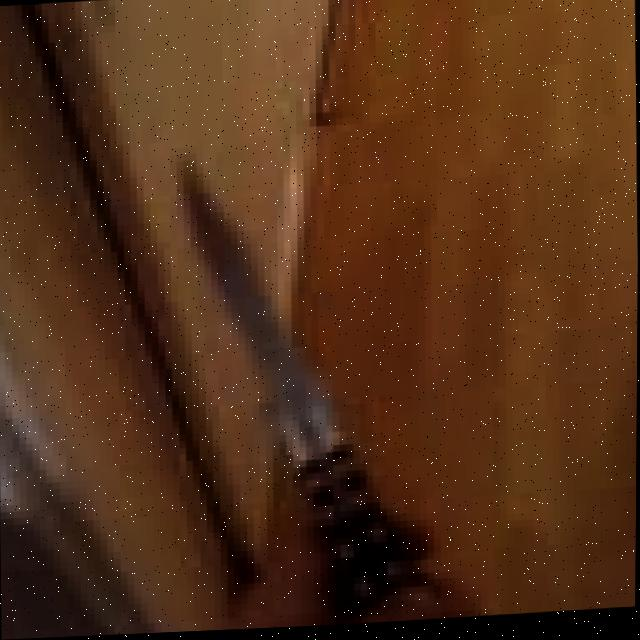knife: (173, 143, 424, 634)
